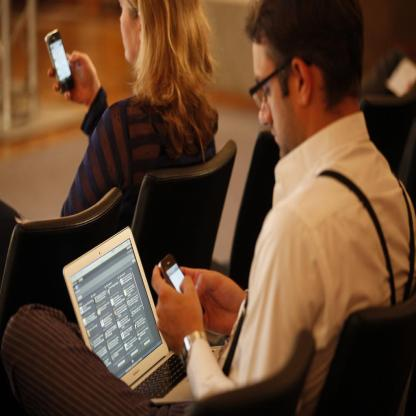board: (65, 226, 215, 396)
